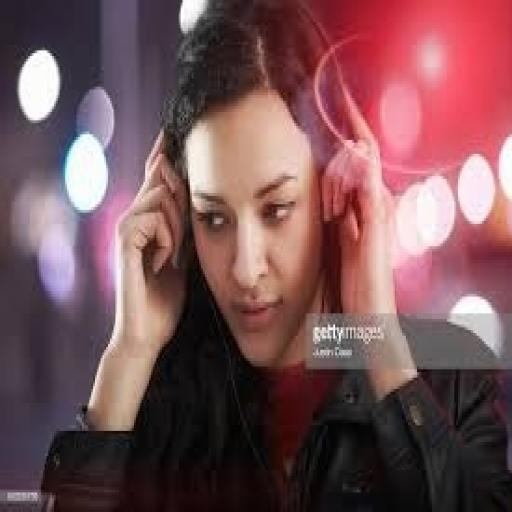listening_to_music: (37, 3, 510, 509)
